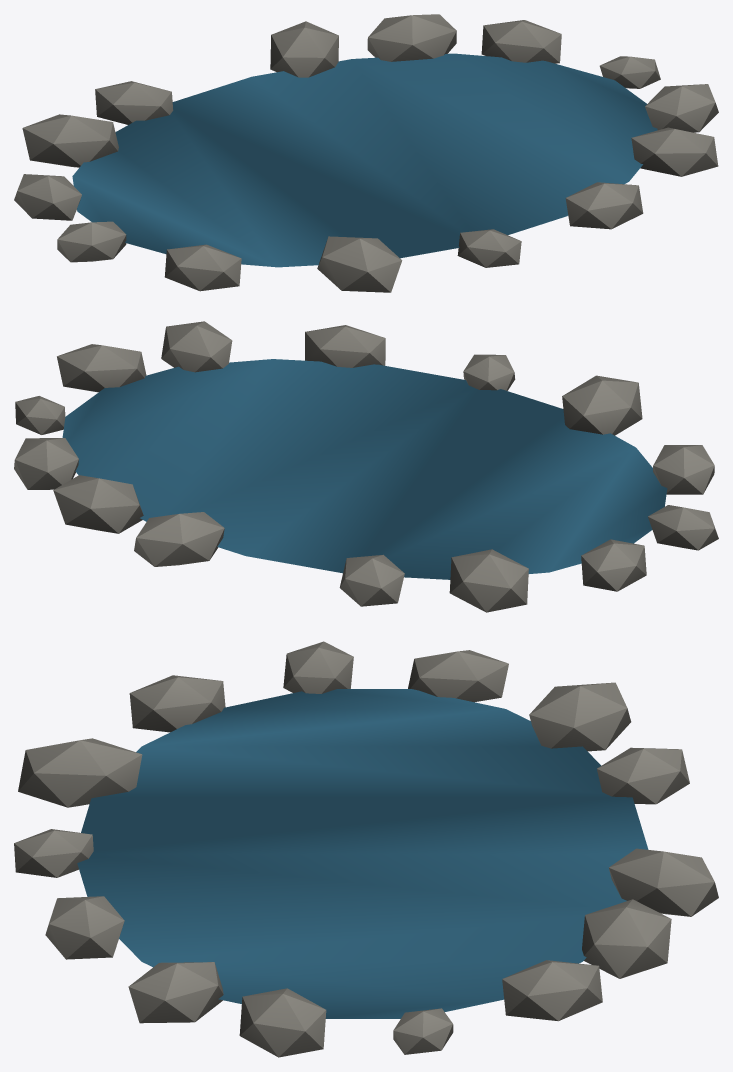
The model's file is struct_pond.glb.
3 renders of one model, top to bottom at view 1: azimuth 30°, elevation 25°; view 2: azimuth 150°, elevation 25°; view 3: azimuth 270°, elevation 25°, orthographic. The views are drawn at different scales.
Visible parts, largest first — view 1: water, stones; view 2: water, stones; view 3: water, stones.
Part boxes in pixels (left/top/right/bottom): water: left=72, top=53, right=657, bottom=267; stones: left=14, top=14, right=718, bottom=292; water: left=62, top=359, right=667, bottom=579; stones: left=14, top=321, right=718, bottom=612; water: left=77, top=689, right=648, bottom=1018; stones: left=14, top=641, right=718, bottom=1057.
Size of the model in its own units: 5.84 by 0.4528 by 4.41.
